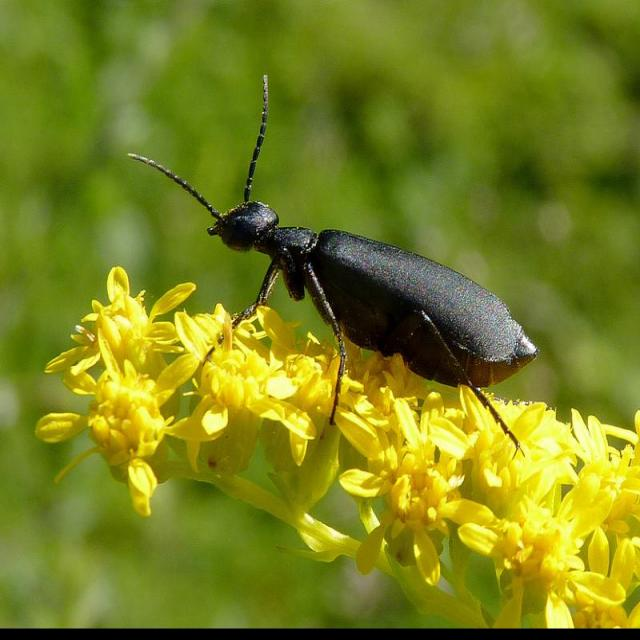BlisterBeetle-Adult-: (132, 67, 536, 441)
